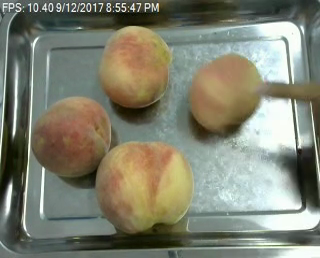Peach: (93, 140, 193, 234), (31, 95, 111, 178), (99, 25, 172, 108), (189, 52, 262, 132)
